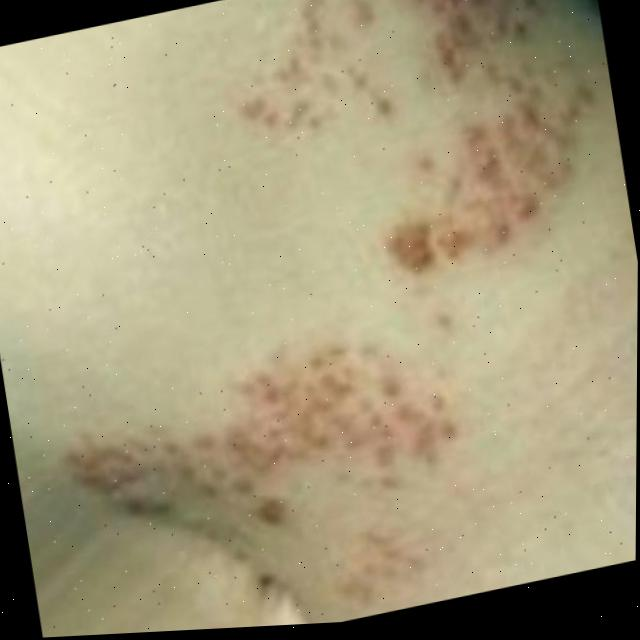Shingles: (55, 324, 484, 637), (251, 0, 628, 302)
